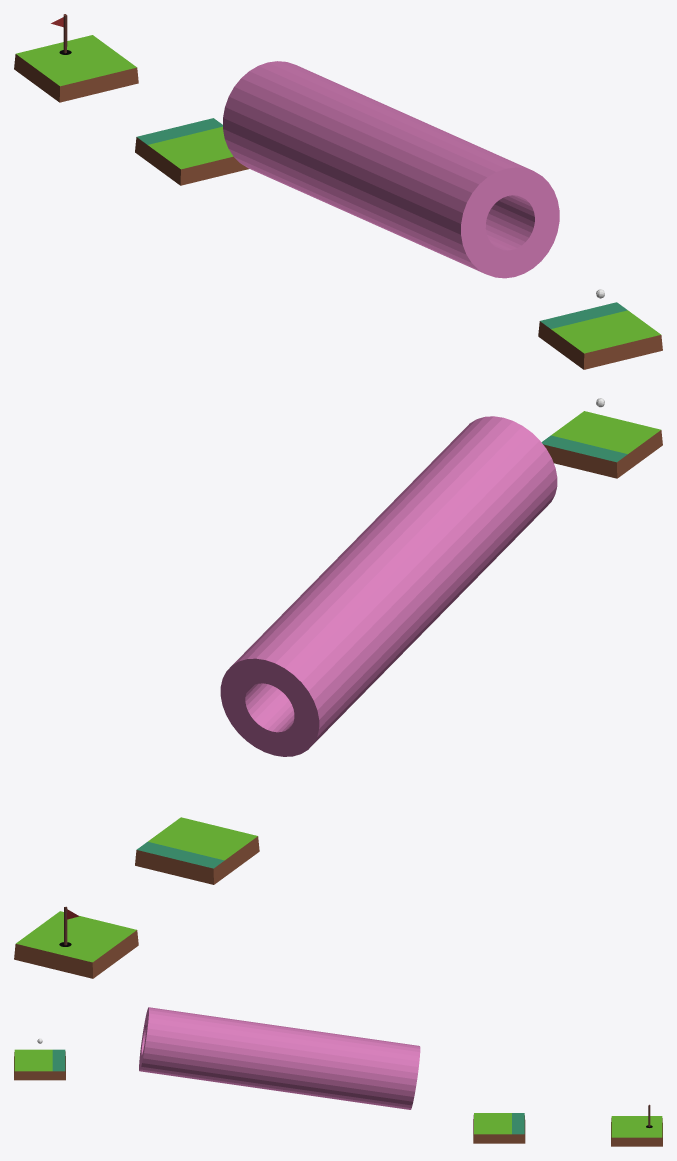
Rendered from level3.glb.
3 renders of one model, top to bottom at view 1: azimuth 30°, elevation 25°; view 2: azimuth 150°, elevation 25°; view 3: azimuth 270°, elevation 25°, orthographic. The views are drawn at different scales.
Parts seen in each view (by area): view 1: Cylinder, basic-moveable.001, basic-fixed.001, basic-moveable.002; view 2: Cylinder, basic-moveable.002, basic-fixed.001, basic-moveable.001; view 3: Cylinder, basic-moveable.001, basic-moveable.002, basic-fixed.001.
Part boxes in pixels (x1,y1,x2,y2): Cylinder: (223, 61, 559, 278); basic-moveable.001: (538, 302, 662, 369); basic-fixed.001: (14, 35, 138, 102); basic-moveable.002: (135, 118, 248, 185); Cylinder: (220, 416, 557, 756); basic-moveable.002: (135, 817, 259, 884); basic-fixed.001: (14, 911, 138, 978); basic-moveable.001: (541, 411, 662, 478); Cylinder: (139, 1007, 420, 1109); basic-moveable.001: (14, 1049, 65, 1080); basic-moveable.002: (473, 1113, 525, 1143); basic-fixed.001: (611, 1116, 662, 1146).
Bounding box in the file's own units: 2.49 × 5.34 × 24.95.
3 materials, 3 textured.
